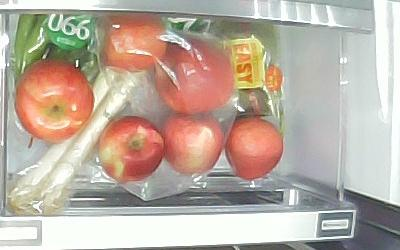apple: (14, 58, 94, 143), (98, 117, 165, 181), (223, 115, 282, 179)
apple_vinyl: (154, 38, 233, 113), (101, 15, 167, 73), (161, 112, 221, 174)
